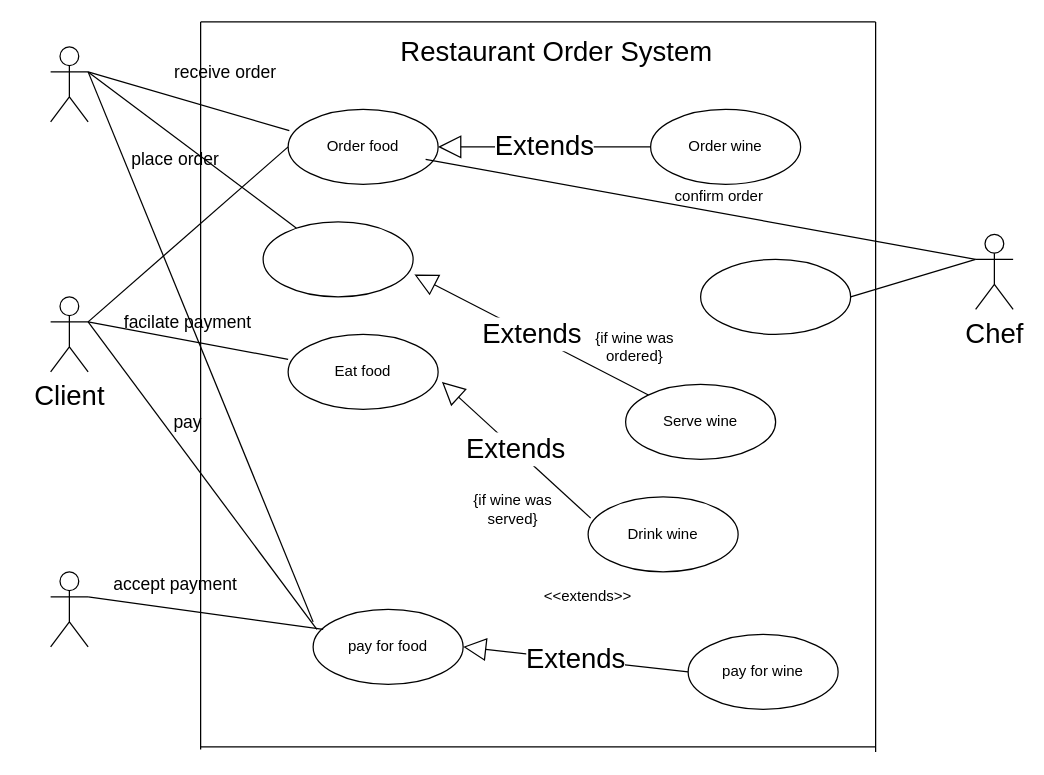
This 1044x775 diagram has some shape labels left out. The centre of each missing label's shape, as x and y in pixels:
"Cashier" goes at (x=68, y=609).
"Cook food" goes at (x=775, y=296).
"Serve food" goes at (x=337, y=259).
"Waiter" goes at (x=68, y=84).
